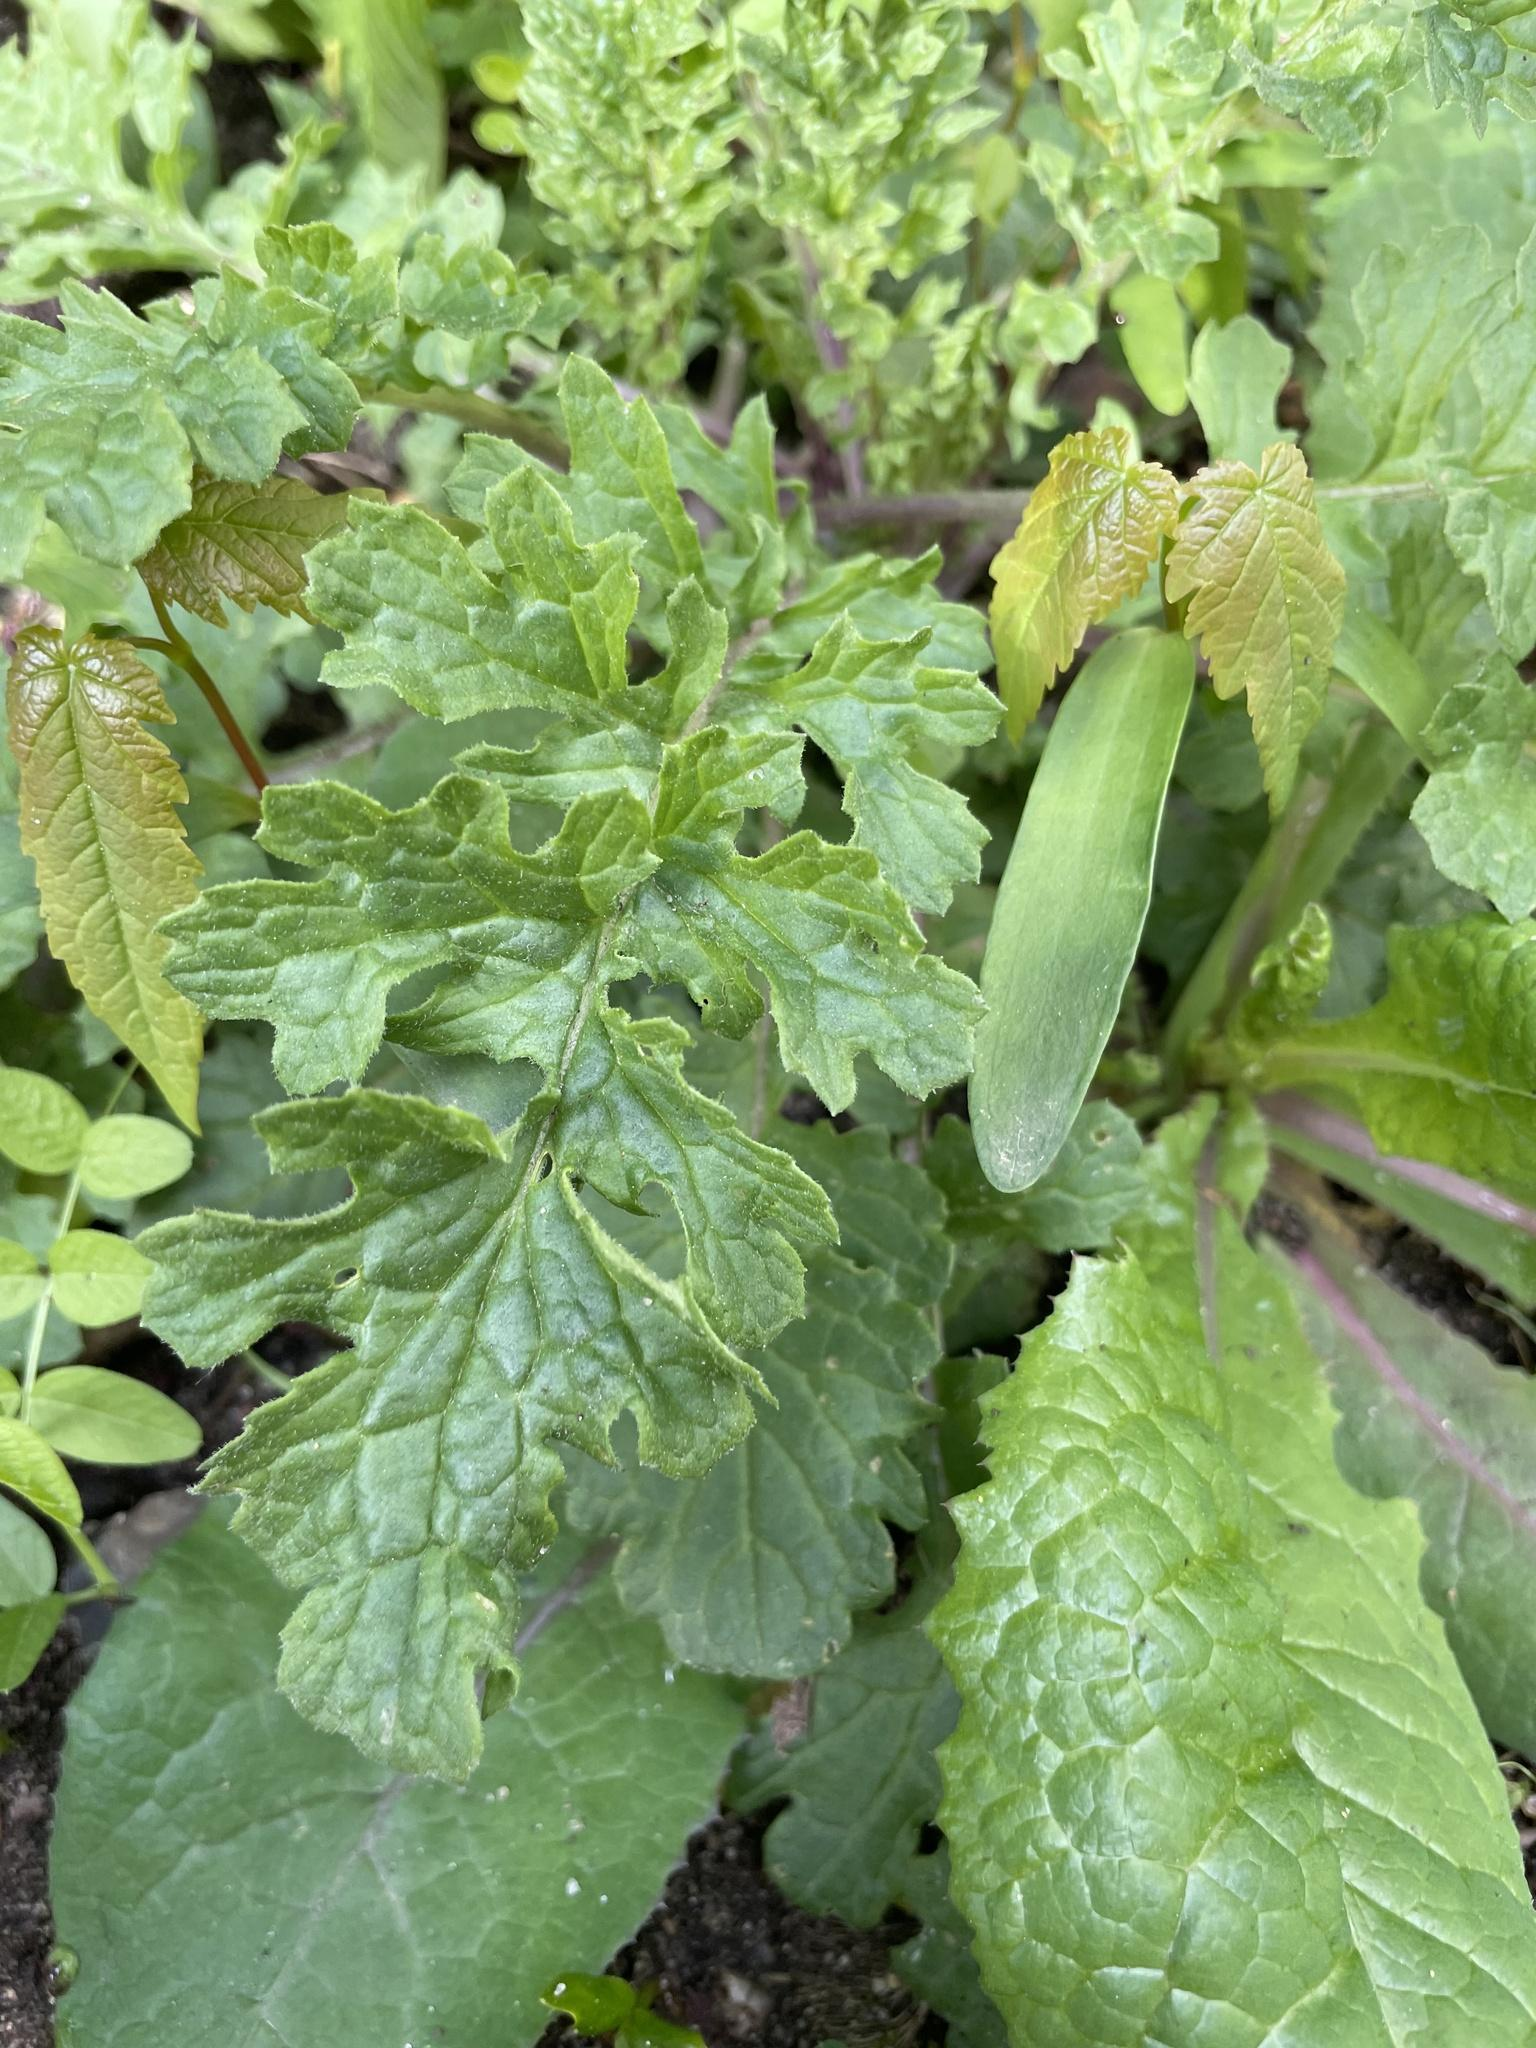Jacobaea vulgaris: (34, 327, 1467, 1827)
